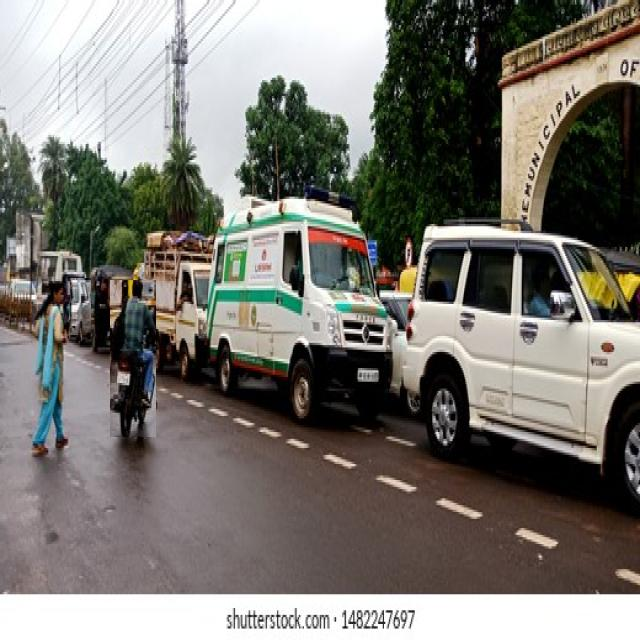car: (405, 225, 640, 507), (70, 279, 91, 341)
emergency: (209, 188, 390, 419)
motorcycle: (110, 281, 156, 437)
truck: (140, 232, 214, 377)
